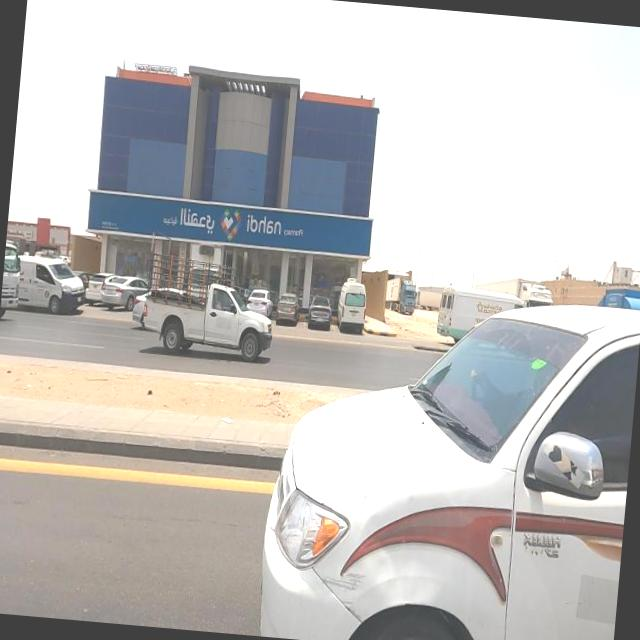debris: (208, 392, 248, 446)
